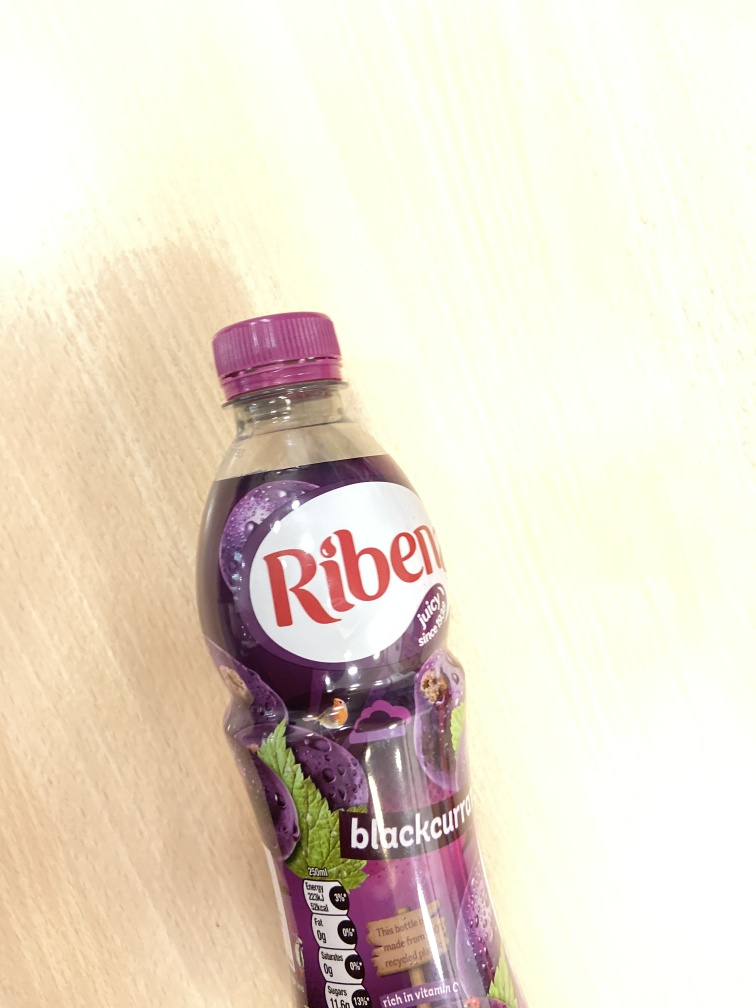bottle_purple: (189, 303, 539, 1008)
